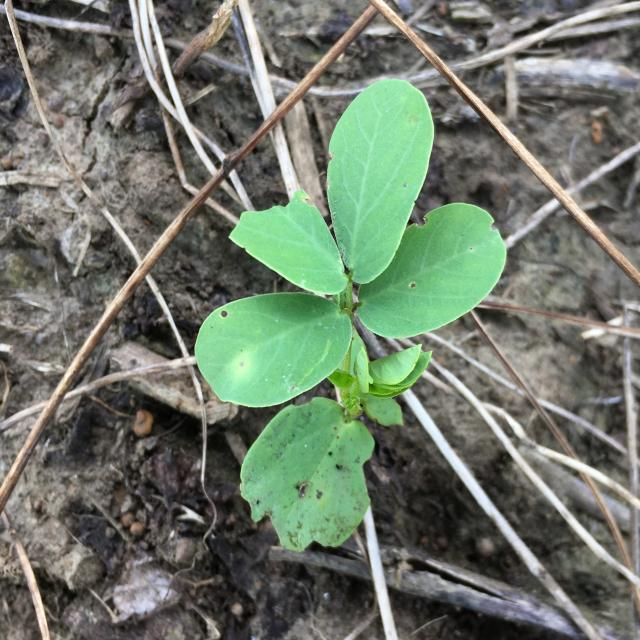Sicklepod: (194, 79, 507, 552)
